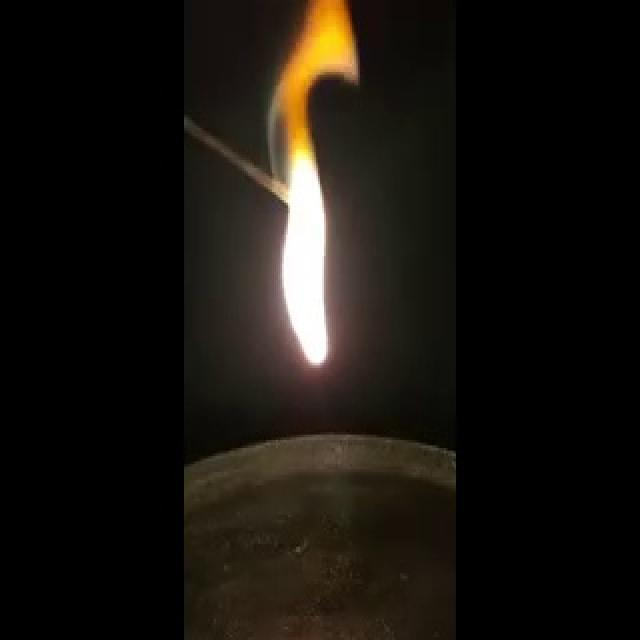fire: (267, 64, 345, 392)
